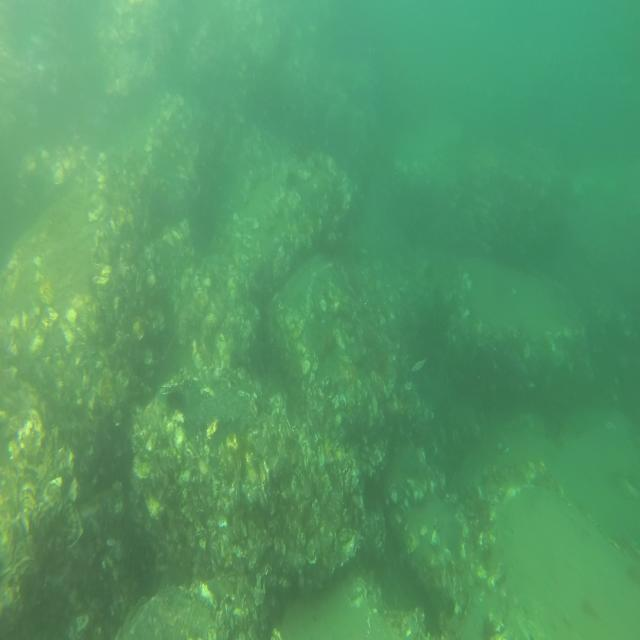echinus: (166, 387, 184, 415), (480, 615, 496, 640), (285, 169, 298, 192)
